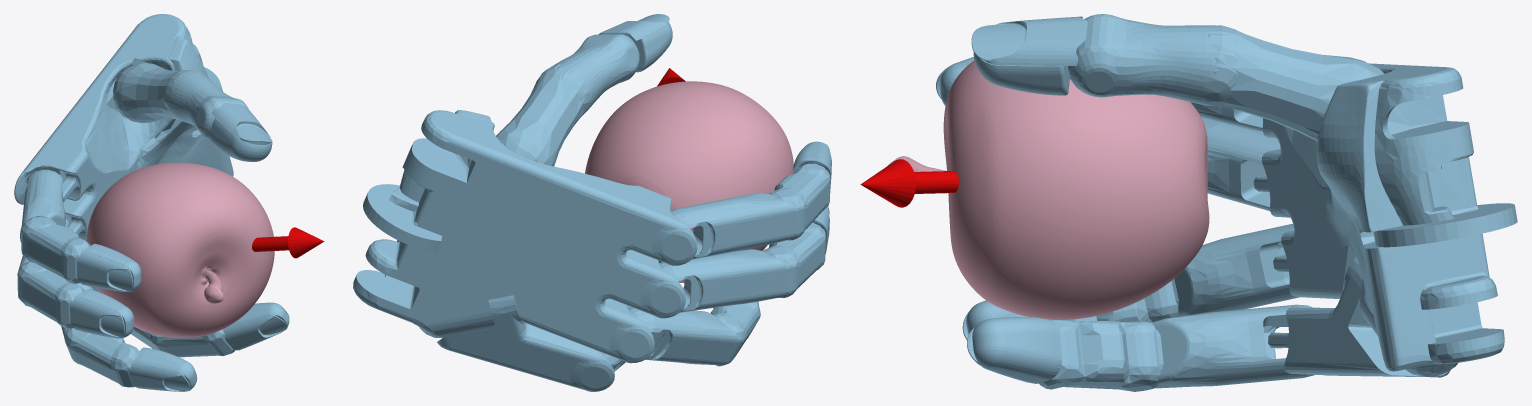
The picture shows the model from 3 angles, left to right: view 1: azimuth 30°, elevation 25°; view 2: azimuth 150°, elevation 25°; view 3: azimuth 270°, elevation 25°; orthographic projection. The views are drawn at different scales.
Visible parts, largest first — view 1: world, apple.stl; view 2: world, apple.stl; view 3: world, apple.stl.
Part boxes in pixels (left/top/right/bottom): world: left=14, top=14, right=324, bottom=391; apple.stl: left=86, top=162, right=274, bottom=337; world: left=353, top=14, right=831, bottom=391; apple.stl: left=585, top=81, right=793, bottom=282; world: left=860, top=14, right=1517, bottom=391; apple.stl: left=888, top=60, right=1209, bottom=319.
Bounding box in the file's own units: 0.144 × 0.1199 × 0.1781.
